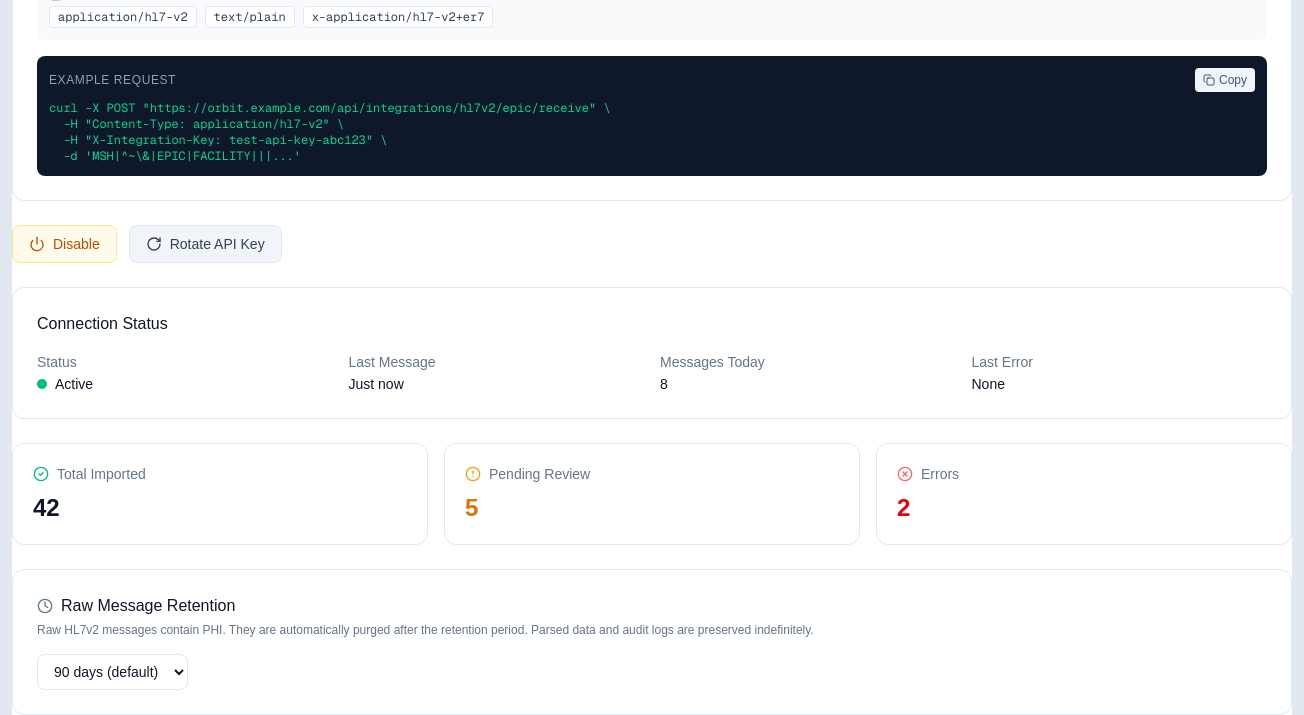
Test: IntegrationOverviewTab › retention policy › shows Save button when retention changed
(page scrolled)
Select "30 days" in the dropdown. click: (112, 672)
box: [37,654,188,690]
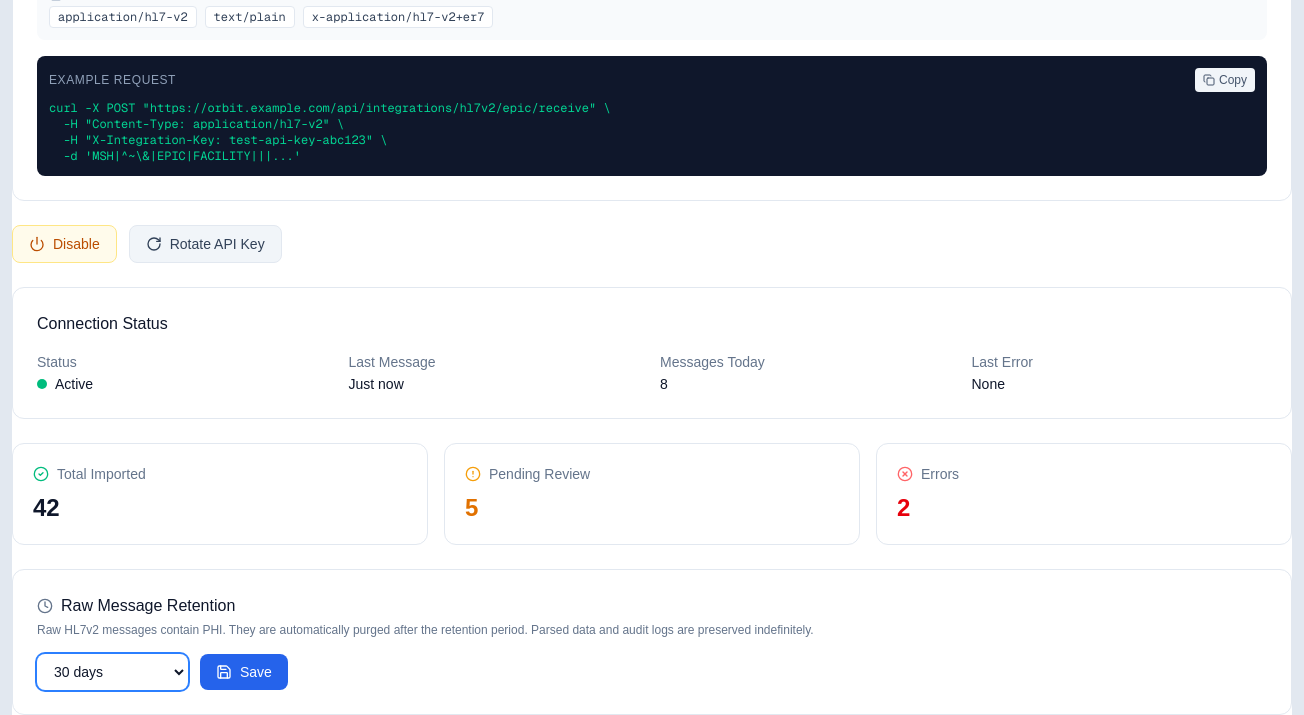
Expected: the button "Save" is shown, [200,654,288,690]
